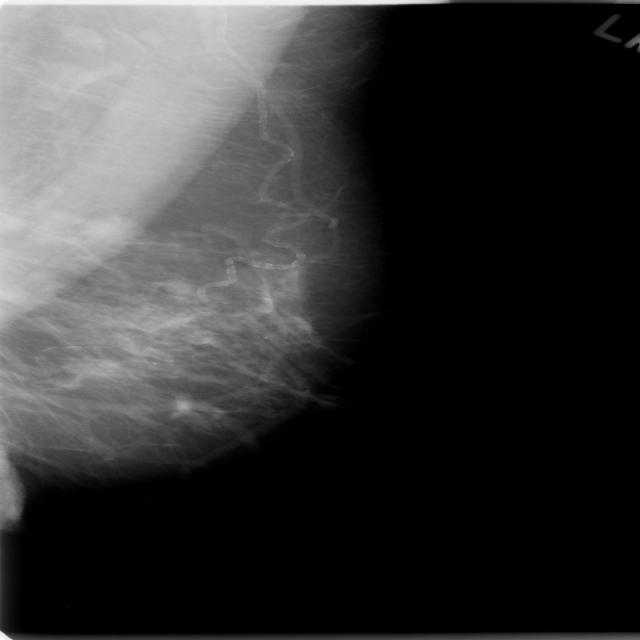normal: (0, 0, 375, 516)
